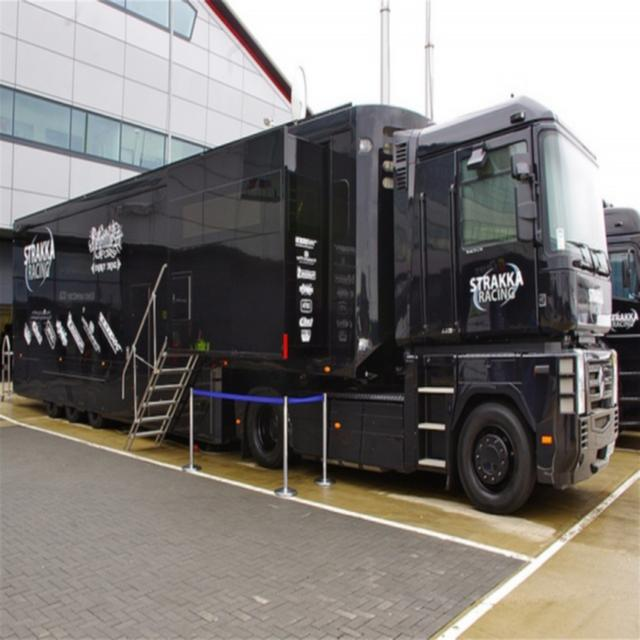truck: (10, 89, 617, 513)
